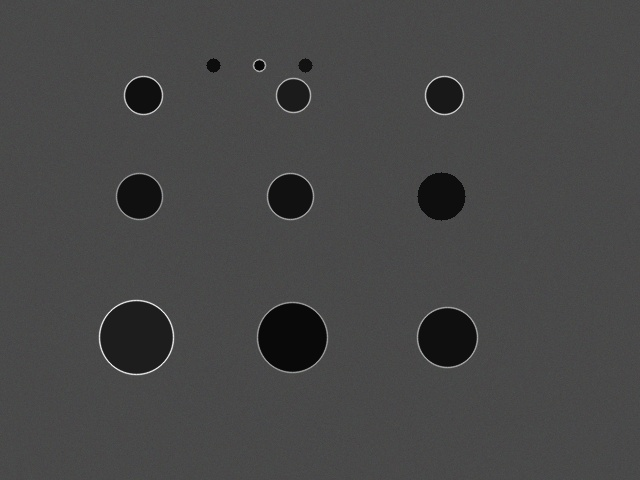hole: (99, 300, 173, 374), (257, 302, 327, 372), (417, 307, 477, 367), (417, 172, 465, 220), (116, 173, 162, 219), (267, 173, 313, 219), (124, 76, 162, 114), (425, 76, 463, 114), (276, 78, 310, 112), (206, 58, 220, 72), (298, 58, 312, 72), (253, 59, 265, 71)
